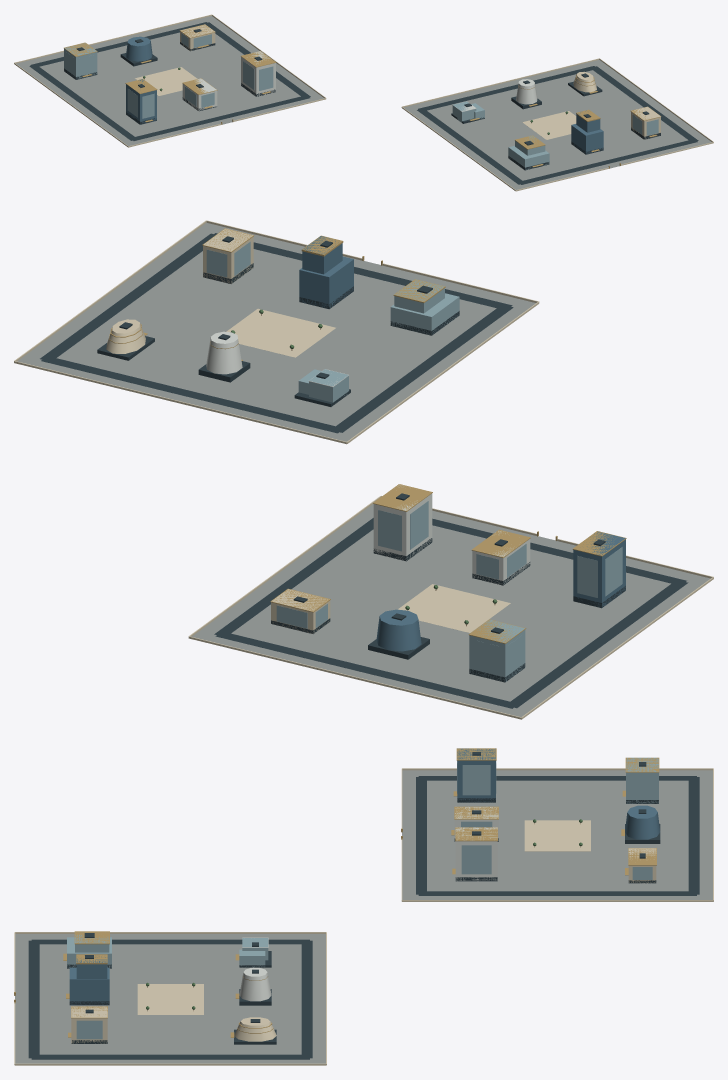
The model's file is GC-TILE-02-22.glb.
The picture shows the model from 3 angles, top to bottom: view 1: azimuth 30°, elevation 25°; view 2: azimuth 150°, elevation 25°; view 3: azimuth 270°, elevation 25°; orthographic projection. The views are drawn at different scales.
Visible parts, largest first — view 1: GC-TILE-02-22-paving, GC-TILE-02-22-dark, GC-TILE-02-22-ivory, GC-TILE-02-22-glass, GC-TILE-02-22-gold, GC-TILE-02-22-blue, GC-TILE-02-22-white; view 2: GC-TILE-02-22-paving, GC-TILE-02-22-dark, GC-TILE-02-22-ivory, GC-TILE-02-22-glass, GC-TILE-02-22-blue, GC-TILE-02-22-gold, GC-TILE-02-22-white; view 3: GC-TILE-02-22-paving, GC-TILE-02-22-dark, GC-TILE-02-22-ivory, GC-TILE-02-22-glass, GC-TILE-02-22-gold, GC-TILE-02-22-blue, GC-TILE-02-22-white.
Part boxes in pixels (box(x1,y1,x2,y2)): GC-TILE-02-22-paving: box(16, 16, 711, 189); GC-TILE-02-22-dark: box(29, 22, 698, 184); GC-TILE-02-22-ivory: box(14, 14, 713, 191); GC-TILE-02-22-glass: box(64, 33, 658, 169); GC-TILE-02-22-gold: box(64, 24, 661, 168); GC-TILE-02-22-blue: box(126, 36, 603, 154); GC-TILE-02-22-white: box(182, 51, 537, 111); GC-TILE-02-22-paving: box(17, 223, 710, 716); GC-TILE-02-22-dark: box(40, 233, 688, 708); GC-TILE-02-22-ivory: box(14, 220, 713, 719); GC-TILE-02-22-glass: box(206, 241, 622, 681); GC-TILE-02-22-blue: box(299, 236, 625, 651); GC-TILE-02-22-gold: box(109, 228, 626, 643); GC-TILE-02-22-white: box(206, 331, 530, 584); GC-TILE-02-22-paving: box(15, 770, 712, 1063); GC-TILE-02-22-dark: box(28, 752, 699, 1059); GC-TILE-02-22-ivory: box(14, 768, 713, 1065); GC-TILE-02-22-glass: box(67, 757, 658, 1039); GC-TILE-02-22-gold: box(14, 748, 659, 1037); GC-TILE-02-22-blue: box(69, 748, 660, 1004); GC-TILE-02-22-white: box(239, 807, 498, 1001).
Size of the model in its own units: 759 by 52.56 by 760.
